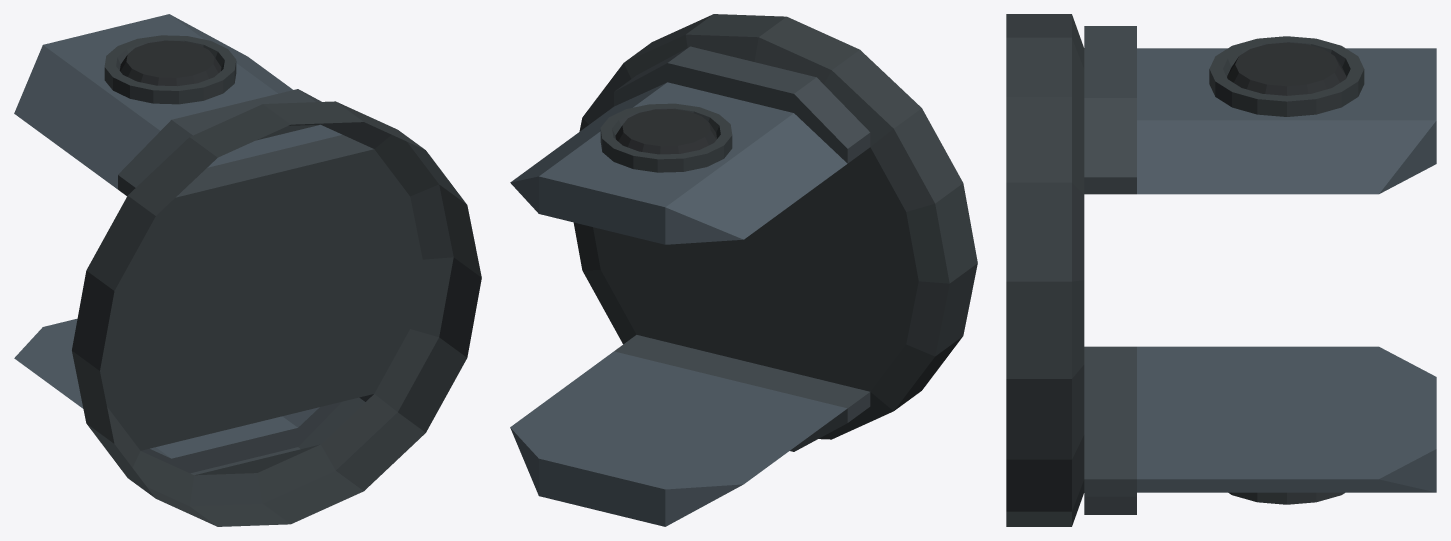
Rendered from Eixo_L.obj.
3 renders of one model, left to right at view 1: azimuth 30°, elevation 25°; view 2: azimuth 150°, elevation 25°; view 3: azimuth 270°, elevation 25°, orthographic. The views are drawn at different scales.
Visible parts, largest first — view 1: Eixo_L_Trackless_Engine.001_Cylinder.004; view 2: Eixo_L_Trackless_Engine.001_Cylinder.004; view 3: Eixo_L_Trackless_Engine.001_Cylinder.004.
Part boxes in pixels (x1,y1,x2,y2): Eixo_L_Trackless_Engine.001_Cylinder.004: [14, 14, 481, 526]; Eixo_L_Trackless_Engine.001_Cylinder.004: [510, 14, 977, 526]; Eixo_L_Trackless_Engine.001_Cylinder.004: [1006, 14, 1436, 526].
Bounding box in the file's own units: 1.04 × 1.04 × 0.8708.
1 material, 1 textured.
